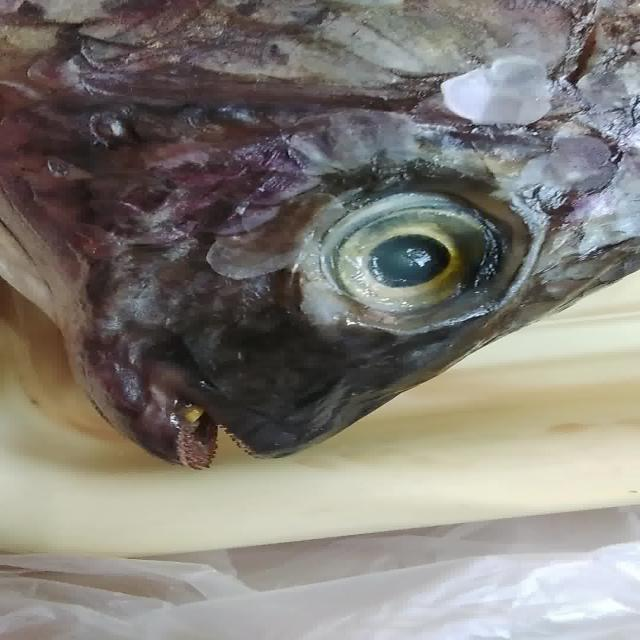Non-Fresh: (69, 135, 543, 429)
